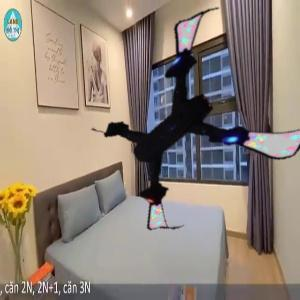drone: (93, 16, 291, 214)
